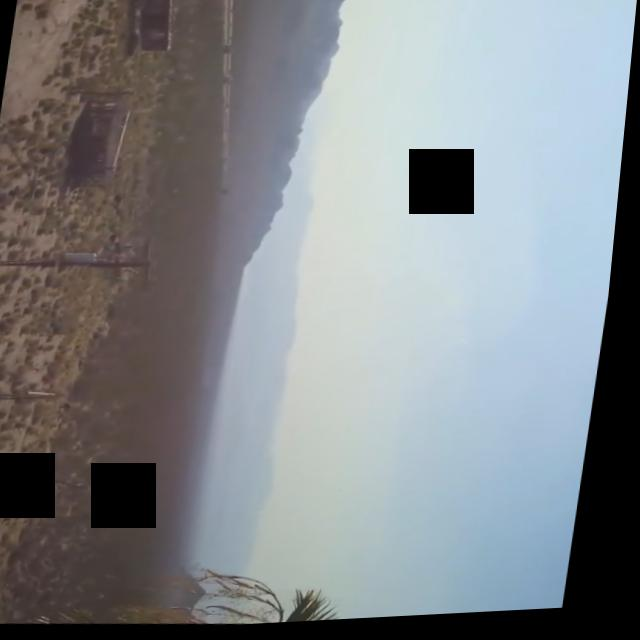Pole: (0, 230, 169, 300)
Tree: (18, 554, 360, 637)
